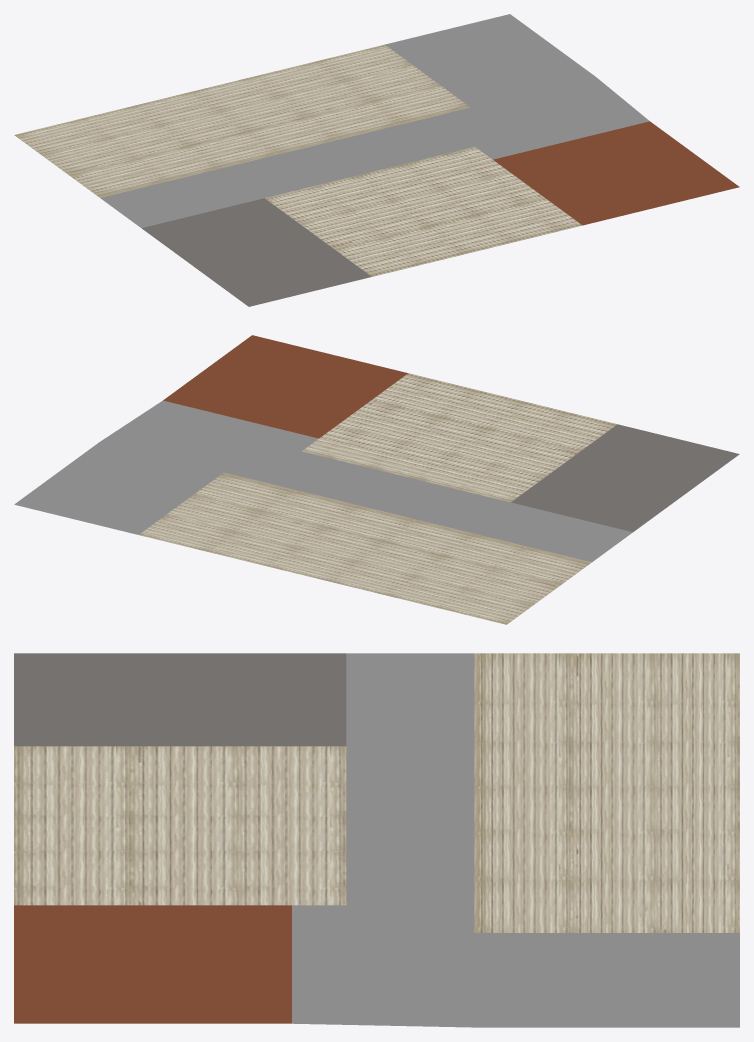
File: Floor001.fbx
3 views of the same model, one above another, from view 1: azimuth 30°, elevation 25°; view 2: azimuth 150°, elevation 25°; view 3: azimuth 270°, elevation 25° (orthographic). The views are drawn at different scales.
Parts seen in each view (by area): view 1: Floor001; view 2: Floor001; view 3: Floor001.
Boxes of the visible parts, x1=… form: Floor001: x1=14, y1=14, x2=739, y2=306; Floor001: x1=14, y1=335, x2=739, y2=624; Floor001: x1=14, y1=653, x2=739, y2=1027.
Size of the model in its own units: 2688 by 9.54e-07 by 2205.
